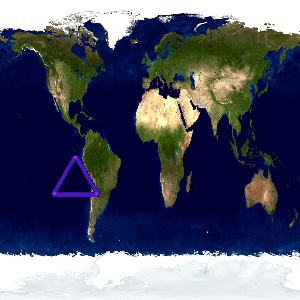triangle: (47, 152, 103, 201)
